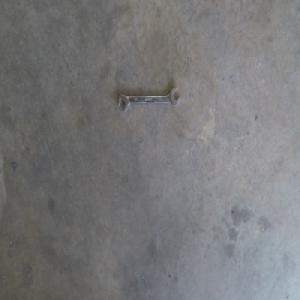Wrench: (118, 87, 179, 111)
